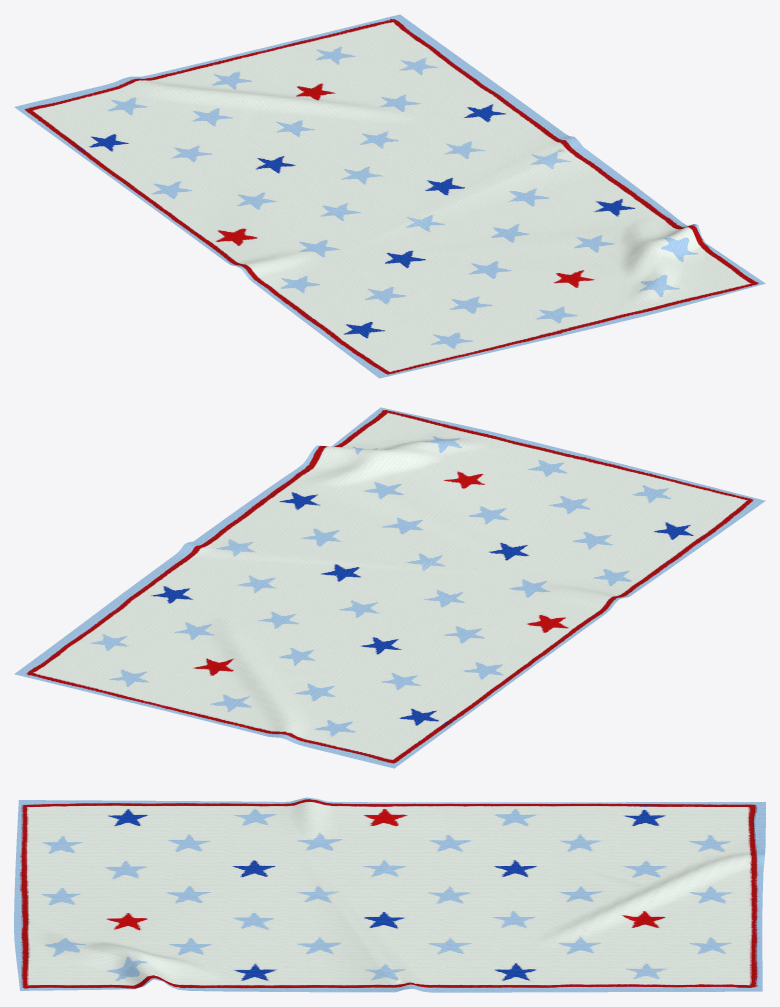
The model's file is Carpet.FBX.
3 renders of one model, top to bottom at view 1: azimuth 30°, elevation 25°; view 2: azimuth 150°, elevation 25°; view 3: azimuth 270°, elevation 25°, orthographic.
Parts seen in each view (by area): view 1: carpet; view 2: carpet; view 3: carpet.
Boxes of the visible parts, left/top/right/bottom form: carpet: left=14, top=14, right=765, bottom=378; carpet: left=14, top=407, right=765, bottom=768; carpet: left=14, top=797, right=765, bottom=992.
Bounding box in the file's own units: 115 × 3.06 × 190.
Materials: 1 (1 with a texture image).
